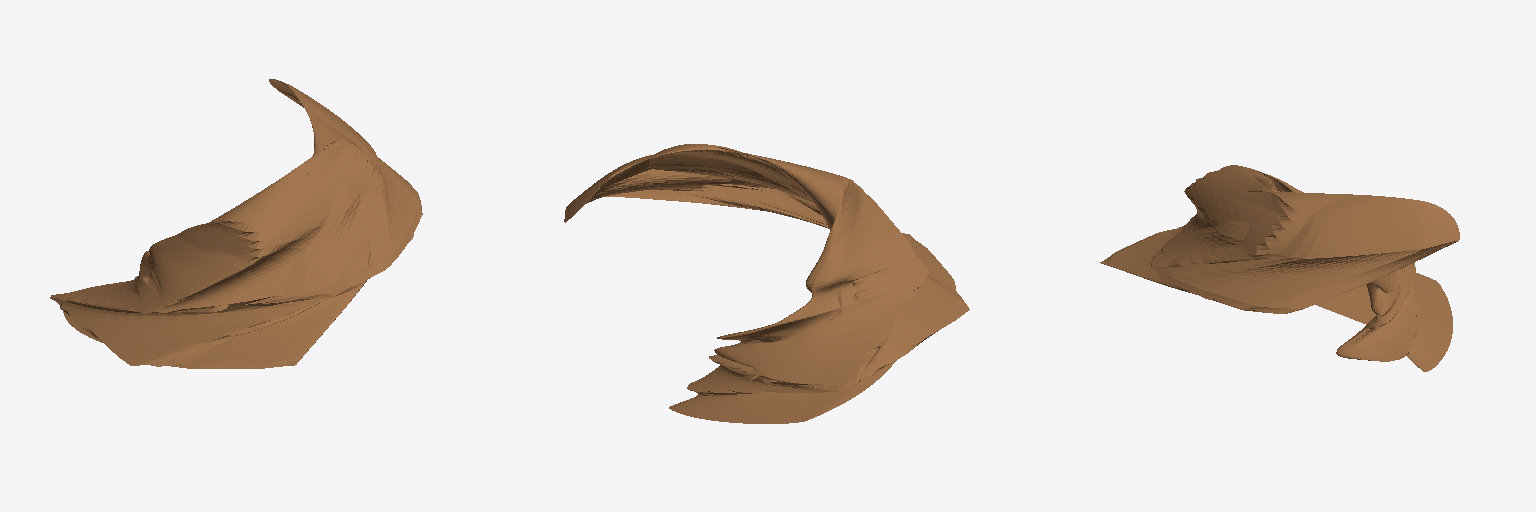
The model's file is enemy3_2.obj.
The picture shows the model from 3 angles: view 1: azimuth 30°, elevation 25°; view 2: azimuth 150°, elevation 25°; view 3: azimuth 270°, elevation 25°; orthographic projection.
Parts seen in each view (by area): view 1: enemy3:ZBrushPolyMesh3D1; view 2: enemy3:ZBrushPolyMesh3D1; view 3: enemy3:ZBrushPolyMesh3D1.
Part boxes in pixels (x1,y1,x2,y2): enemy3:ZBrushPolyMesh3D1: (50,79,422,368); enemy3:ZBrushPolyMesh3D1: (564,144,969,423); enemy3:ZBrushPolyMesh3D1: (1100,165,1459,371).
Size of the model in its own units: 2.1 by 1.27 by 2.